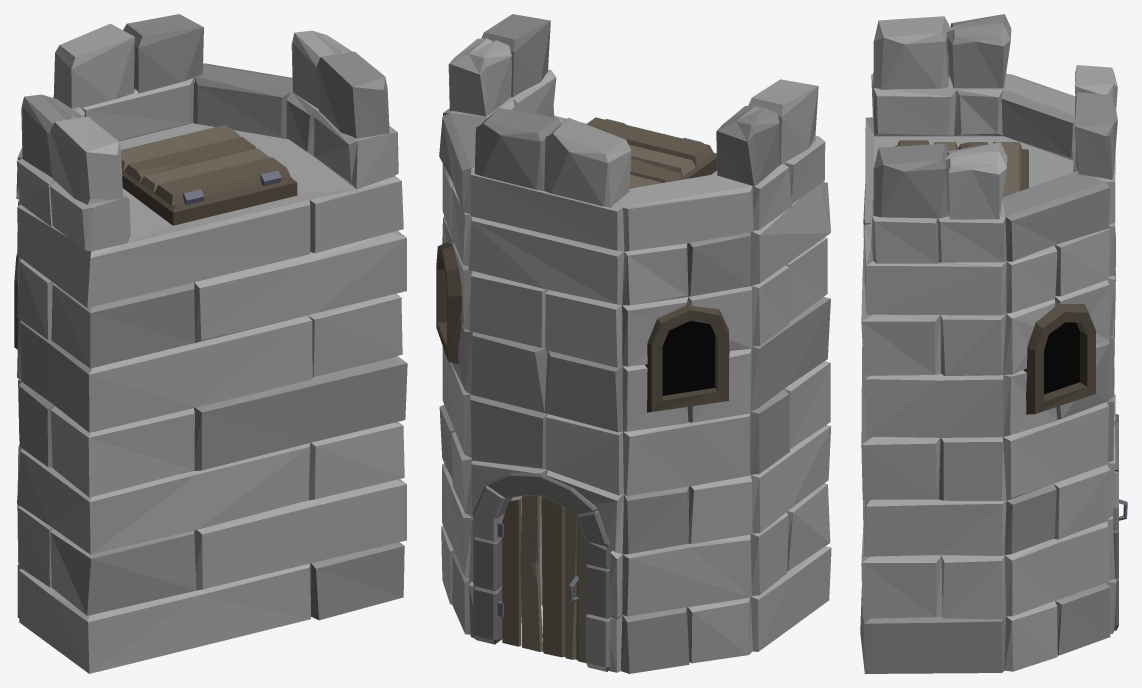
Rendered from _TOWER_02_1.fbx.
The picture shows the model from 3 angles, left to right: view 1: azimuth 30°, elevation 25°; view 2: azimuth 150°, elevation 25°; view 3: azimuth 270°, elevation 25°; orthographic projection. The views are drawn at different scales.
Parts seen in each view (by area): view 1: TOWER_02_1; view 2: TOWER_02_1; view 3: TOWER_02_1.
Part boxes in pixels (box(x1,y1,x2,y2)): TOWER_02_1: box(14, 14, 407, 673); TOWER_02_1: box(436, 14, 831, 673); TOWER_02_1: box(860, 14, 1127, 673).
Size of the model in its own units: 377 by 591 by 280.
